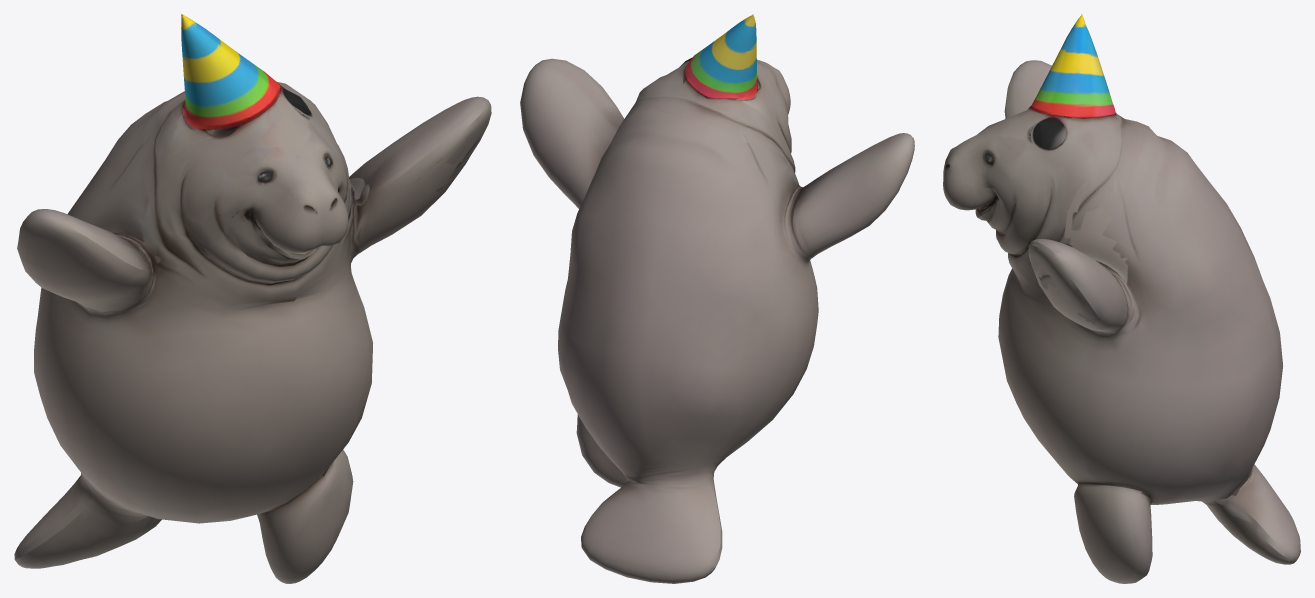
The model's file is Meshy_AI_Party_Manatee_0127212414_texture.fbx.
3 renders of one model, left to right at view 1: azimuth 30°, elevation 25°; view 2: azimuth 150°, elevation 25°; view 3: azimuth 270°, elevation 25°, orthographic. The views are drawn at different scales.
Visible parts, largest first — view 1: Mesh0; view 2: Mesh0; view 3: Mesh0.
Boxes of the visible parts, x1,y1,x2,y2 form: Mesh0: (14,14,491,583); Mesh0: (520,14,914,583); Mesh0: (943,14,1300,583).
Size of the model in its own units: 149 by 189 by 116.
Materials: 1 (1 with a texture image).
